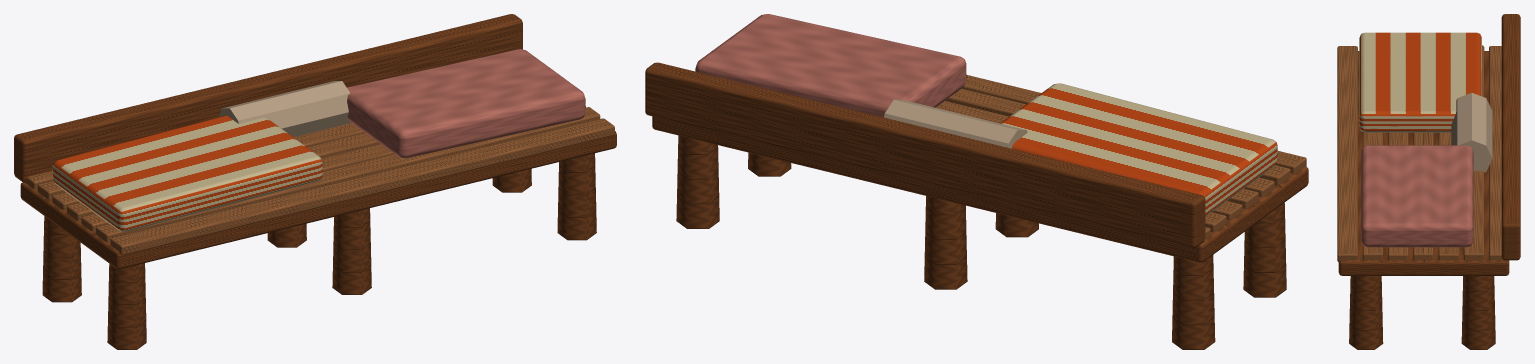
File: viking-age-longhouse-and-longship-longhouse-sleeping-p-e2cba380__30173.glb
The picture shows the model from 3 angles, left to right: view 1: azimuth 30°, elevation 25°; view 2: azimuth 150°, elevation 25°; view 3: azimuth 270°, elevation 25°; orthographic projection. The views are drawn at different scales.
Visible parts, largest first — view 1: longhouse-sleeping-platform; view 2: longhouse-sleeping-platform; view 3: longhouse-sleeping-platform.
Boxes of the visible parts, left/top/right/bottom form: longhouse-sleeping-platform: left=14, top=14, right=616, bottom=349; longhouse-sleeping-platform: left=645, top=14, right=1308, bottom=349; longhouse-sleeping-platform: left=1337, top=14, right=1520, bottom=349.
Bounding box in the file's own units: 2.94 × 0.84 × 1.07.
Materials: 5 (4 with a texture image).
